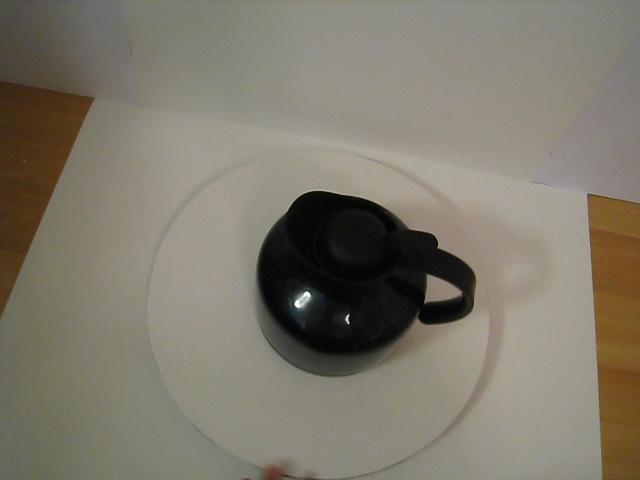pitcher: (248, 174, 488, 392)
